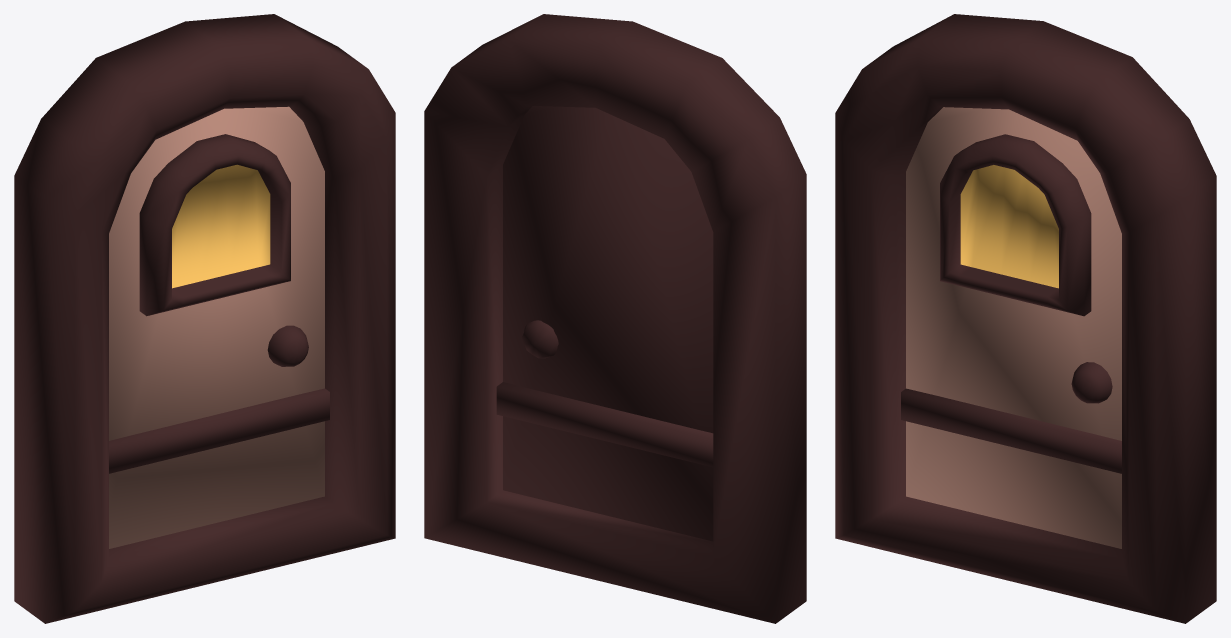
The model's file is Door.fbx.
3 renders of one model, left to right at view 1: azimuth 30°, elevation 25°; view 2: azimuth 150°, elevation 25°; view 3: azimuth 330°, elevation 25°, orthographic.
Visible parts, largest first — view 1: Door; view 2: Door; view 3: Door.
Part boxes in pixels (bbox=[...]): Door: bbox=[14, 14, 395, 623]; Door: bbox=[424, 14, 806, 623]; Door: bbox=[835, 14, 1216, 623].
Size of the model in its own units: 141 by 205 by 30.95.
